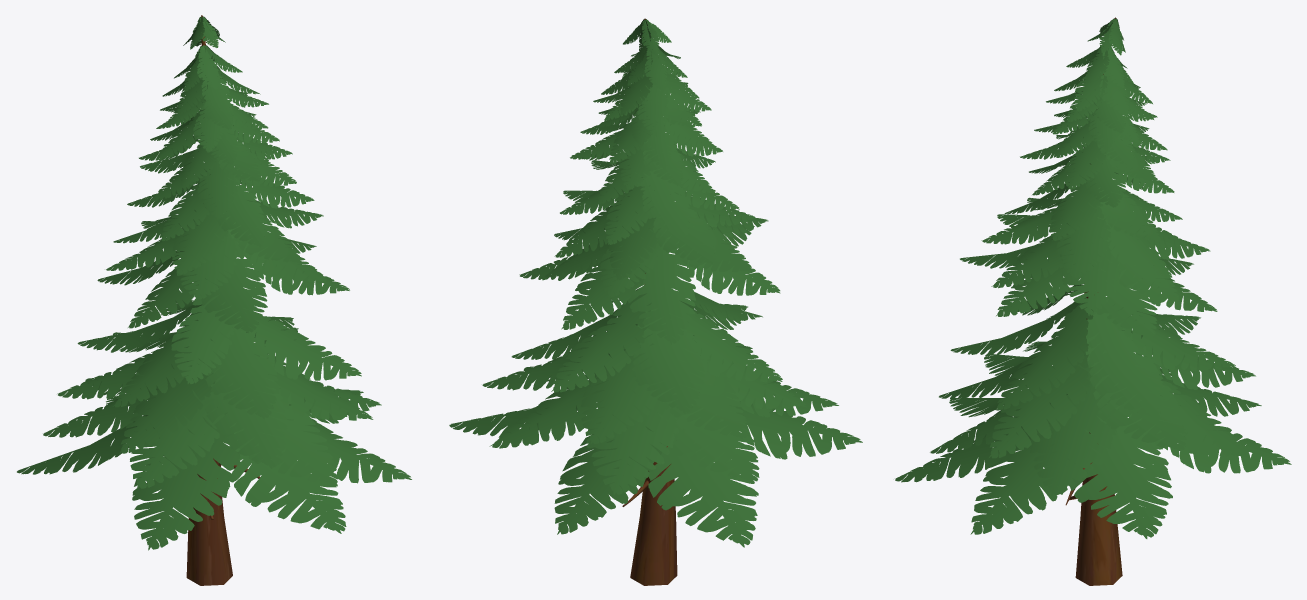
The model's file is STPine1.glb.
The picture shows the model from 3 angles, left to right: view 1: azimuth 30°, elevation 25°; view 2: azimuth 150°, elevation 25°; view 3: azimuth 270°, elevation 25°; orthographic projection.
Parts seen in each view (by area): view 1: STPine1_Leaves, STPine1_Trunk; view 2: STPine1_Leaves, STPine1_Trunk; view 3: STPine1_Leaves, STPine1_Trunk.
Boxes of the visible parts, x1,y1,x2,y2 form: STPine1_Leaves: [17, 16, 411, 550]; STPine1_Trunk: [186, 15, 259, 585]; STPine1_Leaves: [449, 19, 862, 547]; STPine1_Trunk: [622, 18, 677, 585]; STPine1_Leaves: [895, 18, 1291, 538]; STPine1_Trunk: [1065, 17, 1122, 585].
Bounding box in the file's own units: 8.37 × 12.85 × 8.33.
2 materials, 2 textured.
